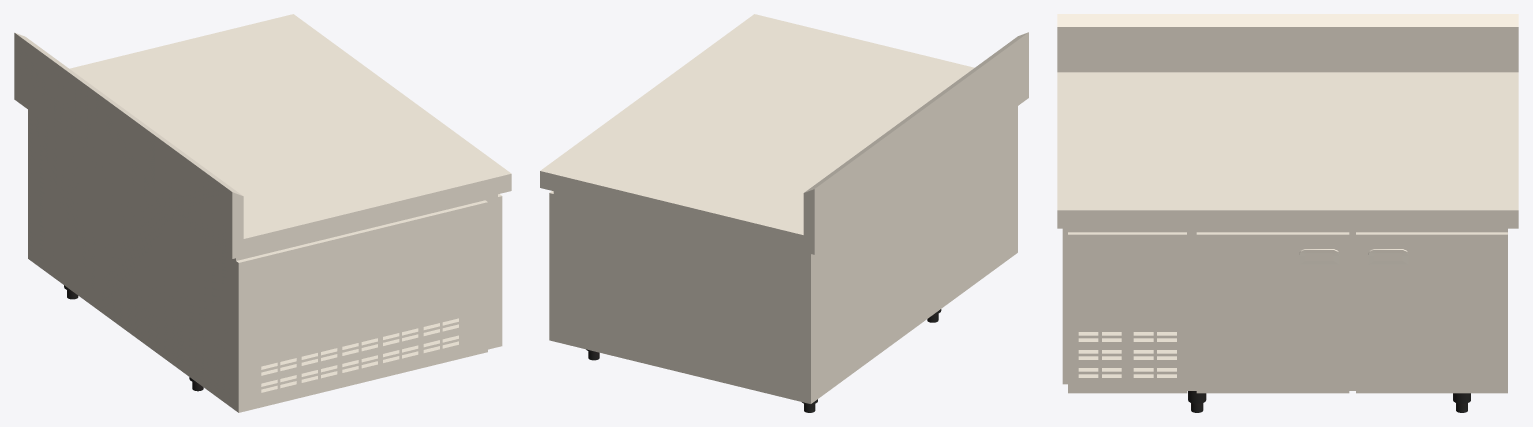
File: Refrigerator.fbx
3 renders of one model, left to right at view 1: azimuth 30°, elevation 25°; view 2: azimuth 150°, elevation 25°; view 3: azimuth 270°, elevation 25°, orthographic. The views are drawn at different scales.
Visible parts, largest first — view 1: refrigerator1; view 2: refrigerator1; view 3: refrigerator1.
Part boxes in pixels (x1,y1,x2,y2): refrigerator1: [14, 14, 511, 412]; refrigerator1: [540, 14, 1028, 412]; refrigerator1: [1057, 14, 1518, 412].
Size of the model in its own units: 135 by 117 by 183.
Materials: 1 (1 with a texture image).
